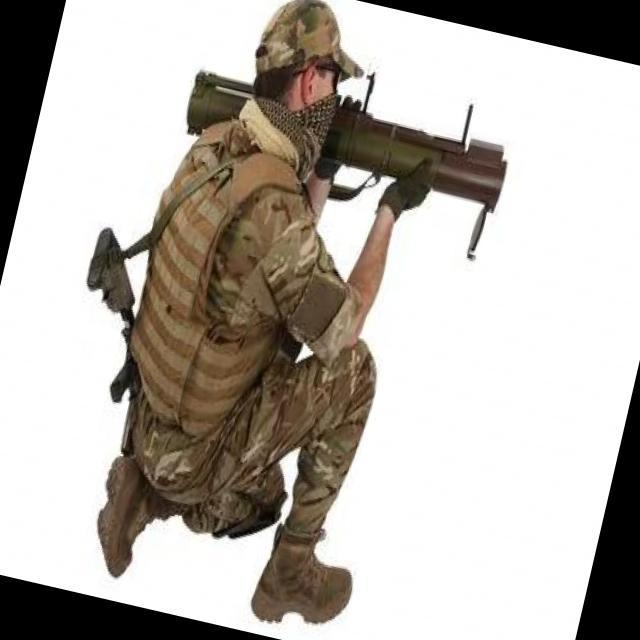rocket: (175, 60, 517, 229)
